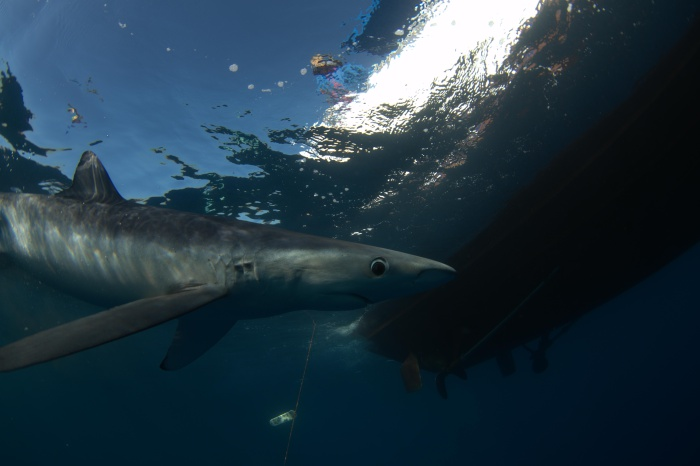Azul: (1, 157, 471, 411)
